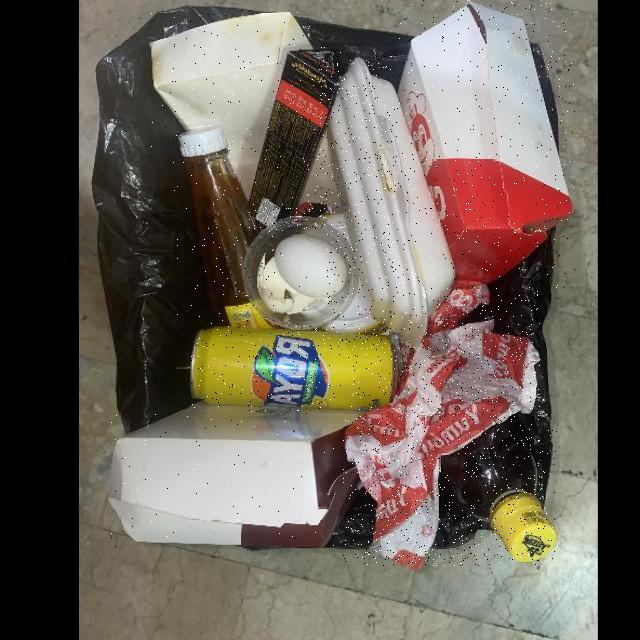biowaste: (274, 236, 348, 297)
glass: (151, 10, 314, 204), (177, 125, 275, 328)
metal: (191, 326, 399, 414)
paper: (343, 286, 541, 566), (400, 0, 575, 293), (108, 403, 367, 546), (249, 46, 342, 233)
plastic: (436, 420, 557, 563)
styrofoam: (327, 55, 455, 350)
